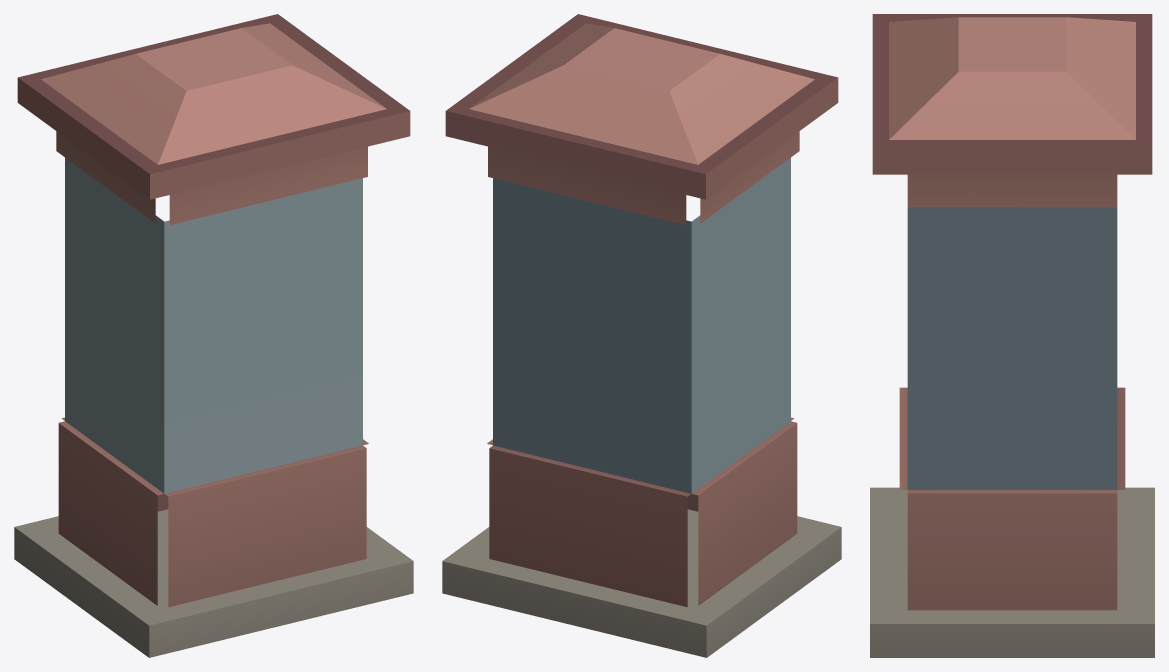
Rendered from phone.lod2.glb.
3 views of the same model, side by side, from view 1: azimuth 30°, elevation 25°; view 2: azimuth 150°, elevation 25°; view 3: azimuth 270°, elevation 25° (orthographic). The views are drawn at different scales.
Bounding box in the file's own units: 1.2 × 2.24 × 1.06.
